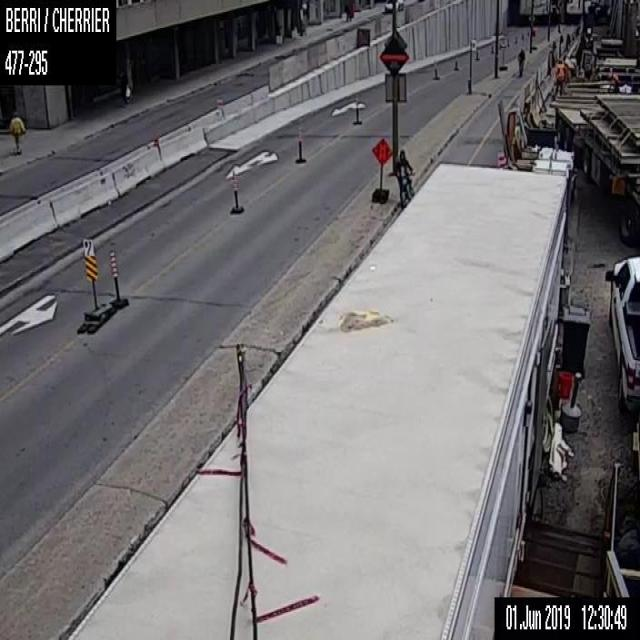construction: (370, 136, 392, 202), (110, 247, 119, 301), (233, 169, 238, 208), (298, 125, 301, 158), (355, 92, 358, 121), (475, 46, 478, 58), (434, 58, 436, 76), (490, 40, 493, 51), (454, 54, 456, 68), (520, 31, 523, 39), (506, 37, 508, 45), (514, 35, 516, 42)
cyclist: (394, 148, 414, 208), (516, 47, 525, 77)
pedestrian: (8, 112, 25, 154), (343, 0, 352, 20)
vehicle: (605, 256, 639, 412), (384, 0, 404, 12)
